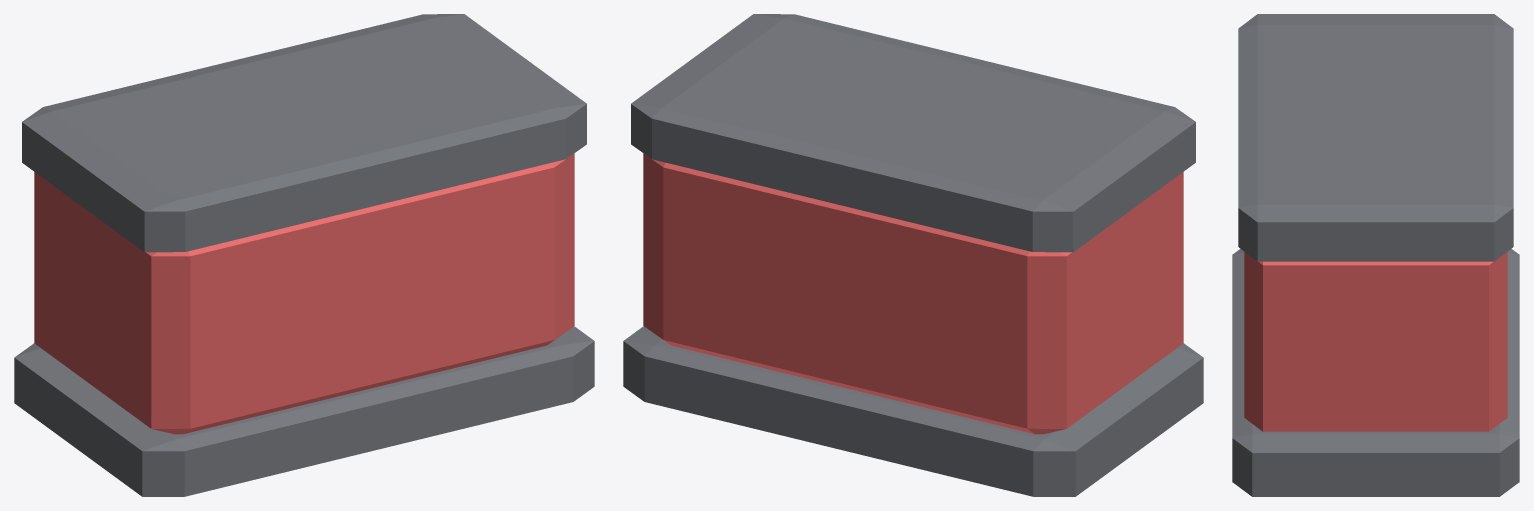
Rendered from b12_fire_escape_landing.glb.
3 views of the same model, side by side, from view 1: azimuth 30°, elevation 25°; view 2: azimuth 150°, elevation 25°; view 3: azimuth 270°, elevation 25° (orthographic). The views are drawn at different scales.
Visible parts, largest first — view 1: b12_fire_escape_landing; view 2: b12_fire_escape_landing; view 3: b12_fire_escape_landing.
Boxes of the visible parts, x1,y1,x2,y2 form: b12_fire_escape_landing: (14, 14, 594, 496); b12_fire_escape_landing: (623, 14, 1203, 496); b12_fire_escape_landing: (1232, 14, 1519, 496).
Size of the model in its own units: 2.2 by 1.34 by 1.25.
